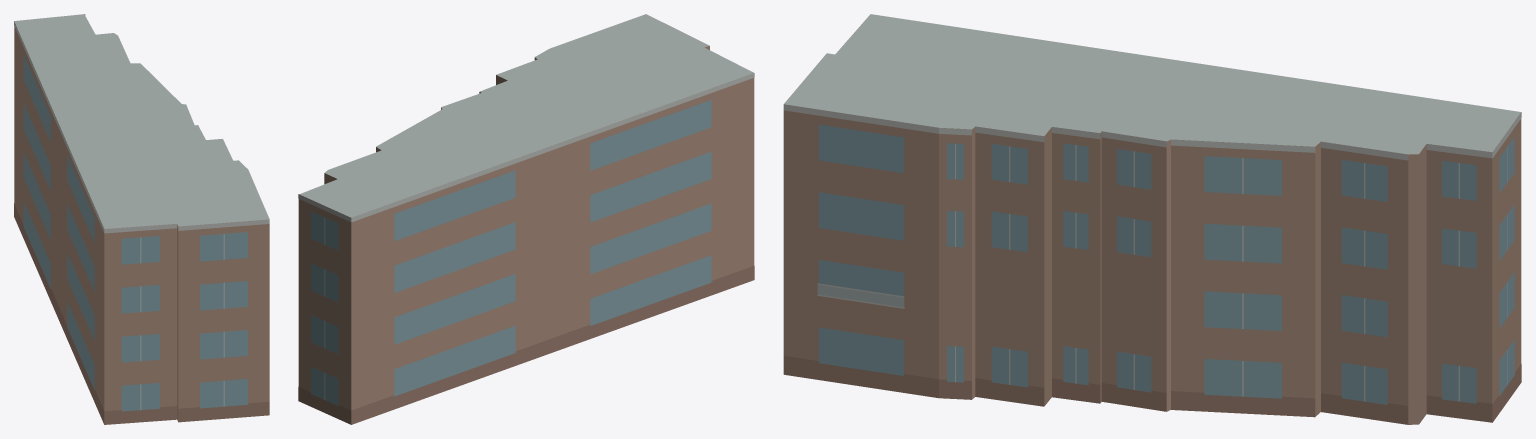
File: survey-upis-32872641.glb
3 views of the same model, side by side, from view 1: azimuth 30°, elevation 25°; view 2: azimuth 150°, elevation 25°; view 3: azimuth 270°, elevation 25° (orthographic). The views are drawn at different scales.
Visible parts, largest first — view 1: survey-upis-32872641.tmp; view 2: survey-upis-32872641.tmp; view 3: survey-upis-32872641.tmp.
Part boxes in pixels (x1,y1,x2,y2): survey-upis-32872641.tmp: [14, 14, 269, 424]; survey-upis-32872641.tmp: [298, 14, 754, 424]; survey-upis-32872641.tmp: [783, 14, 1521, 424].
Bounding box in the file's own units: 12.04 × 10.8 × 26.72.
